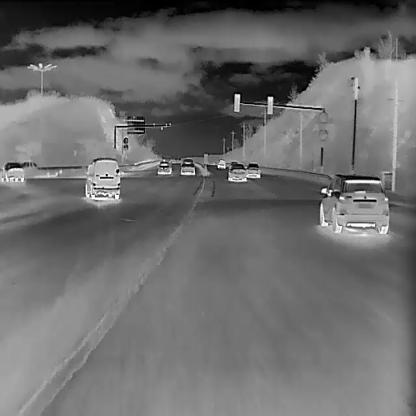car: (318, 172, 390, 235), (84, 157, 121, 200), (1, 161, 24, 182), (227, 163, 246, 182), (180, 158, 195, 176), (158, 156, 172, 174), (246, 162, 260, 178), (217, 158, 226, 168)
